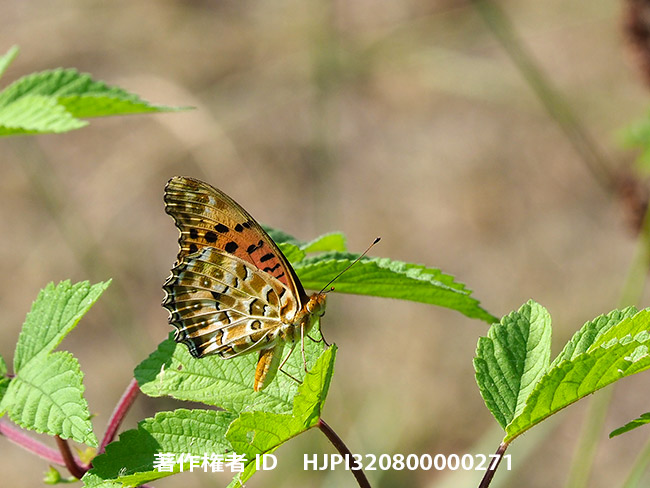Argyreus hyperbius: (158, 167, 384, 396)
butterfly: (160, 169, 386, 398)
